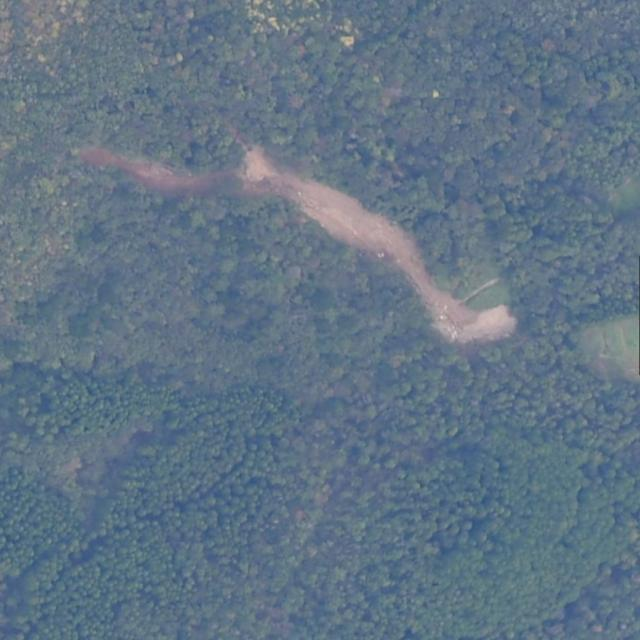landslide: (79, 146, 517, 344)
